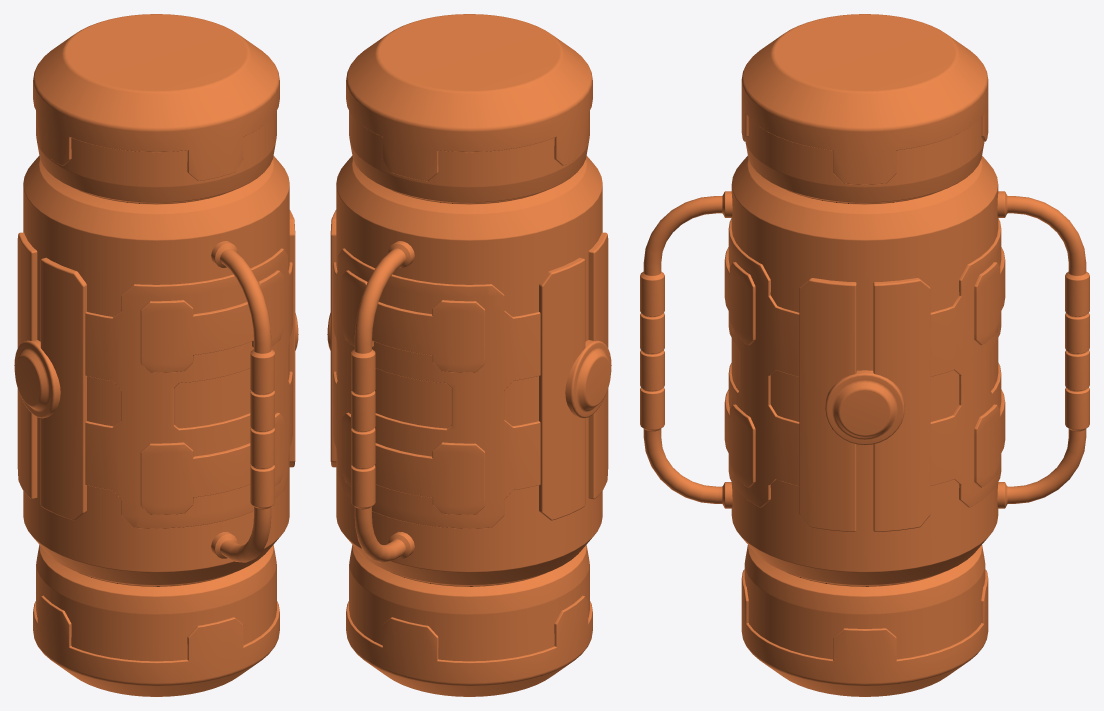
Rendered from SM_Barrel02.fbx.
The picture shows the model from 3 angles, left to right: view 1: azimuth 30°, elevation 25°; view 2: azimuth 150°, elevation 25°; view 3: azimuth 270°, elevation 25°; orthographic projection.
Parts seen in each view (by area): view 1: SM_Barrel02; view 2: SM_Barrel02; view 3: SM_Barrel02.
Boxes of the visible parts, left/top/right/bottom form: SM_Barrel02: left=14, top=14, right=298, bottom=696; SM_Barrel02: left=327, top=14, right=611, bottom=696; SM_Barrel02: left=640, top=14, right=1089, bottom=696.
Size of the model in its own units: 56.84 by 128 by 85.95.
